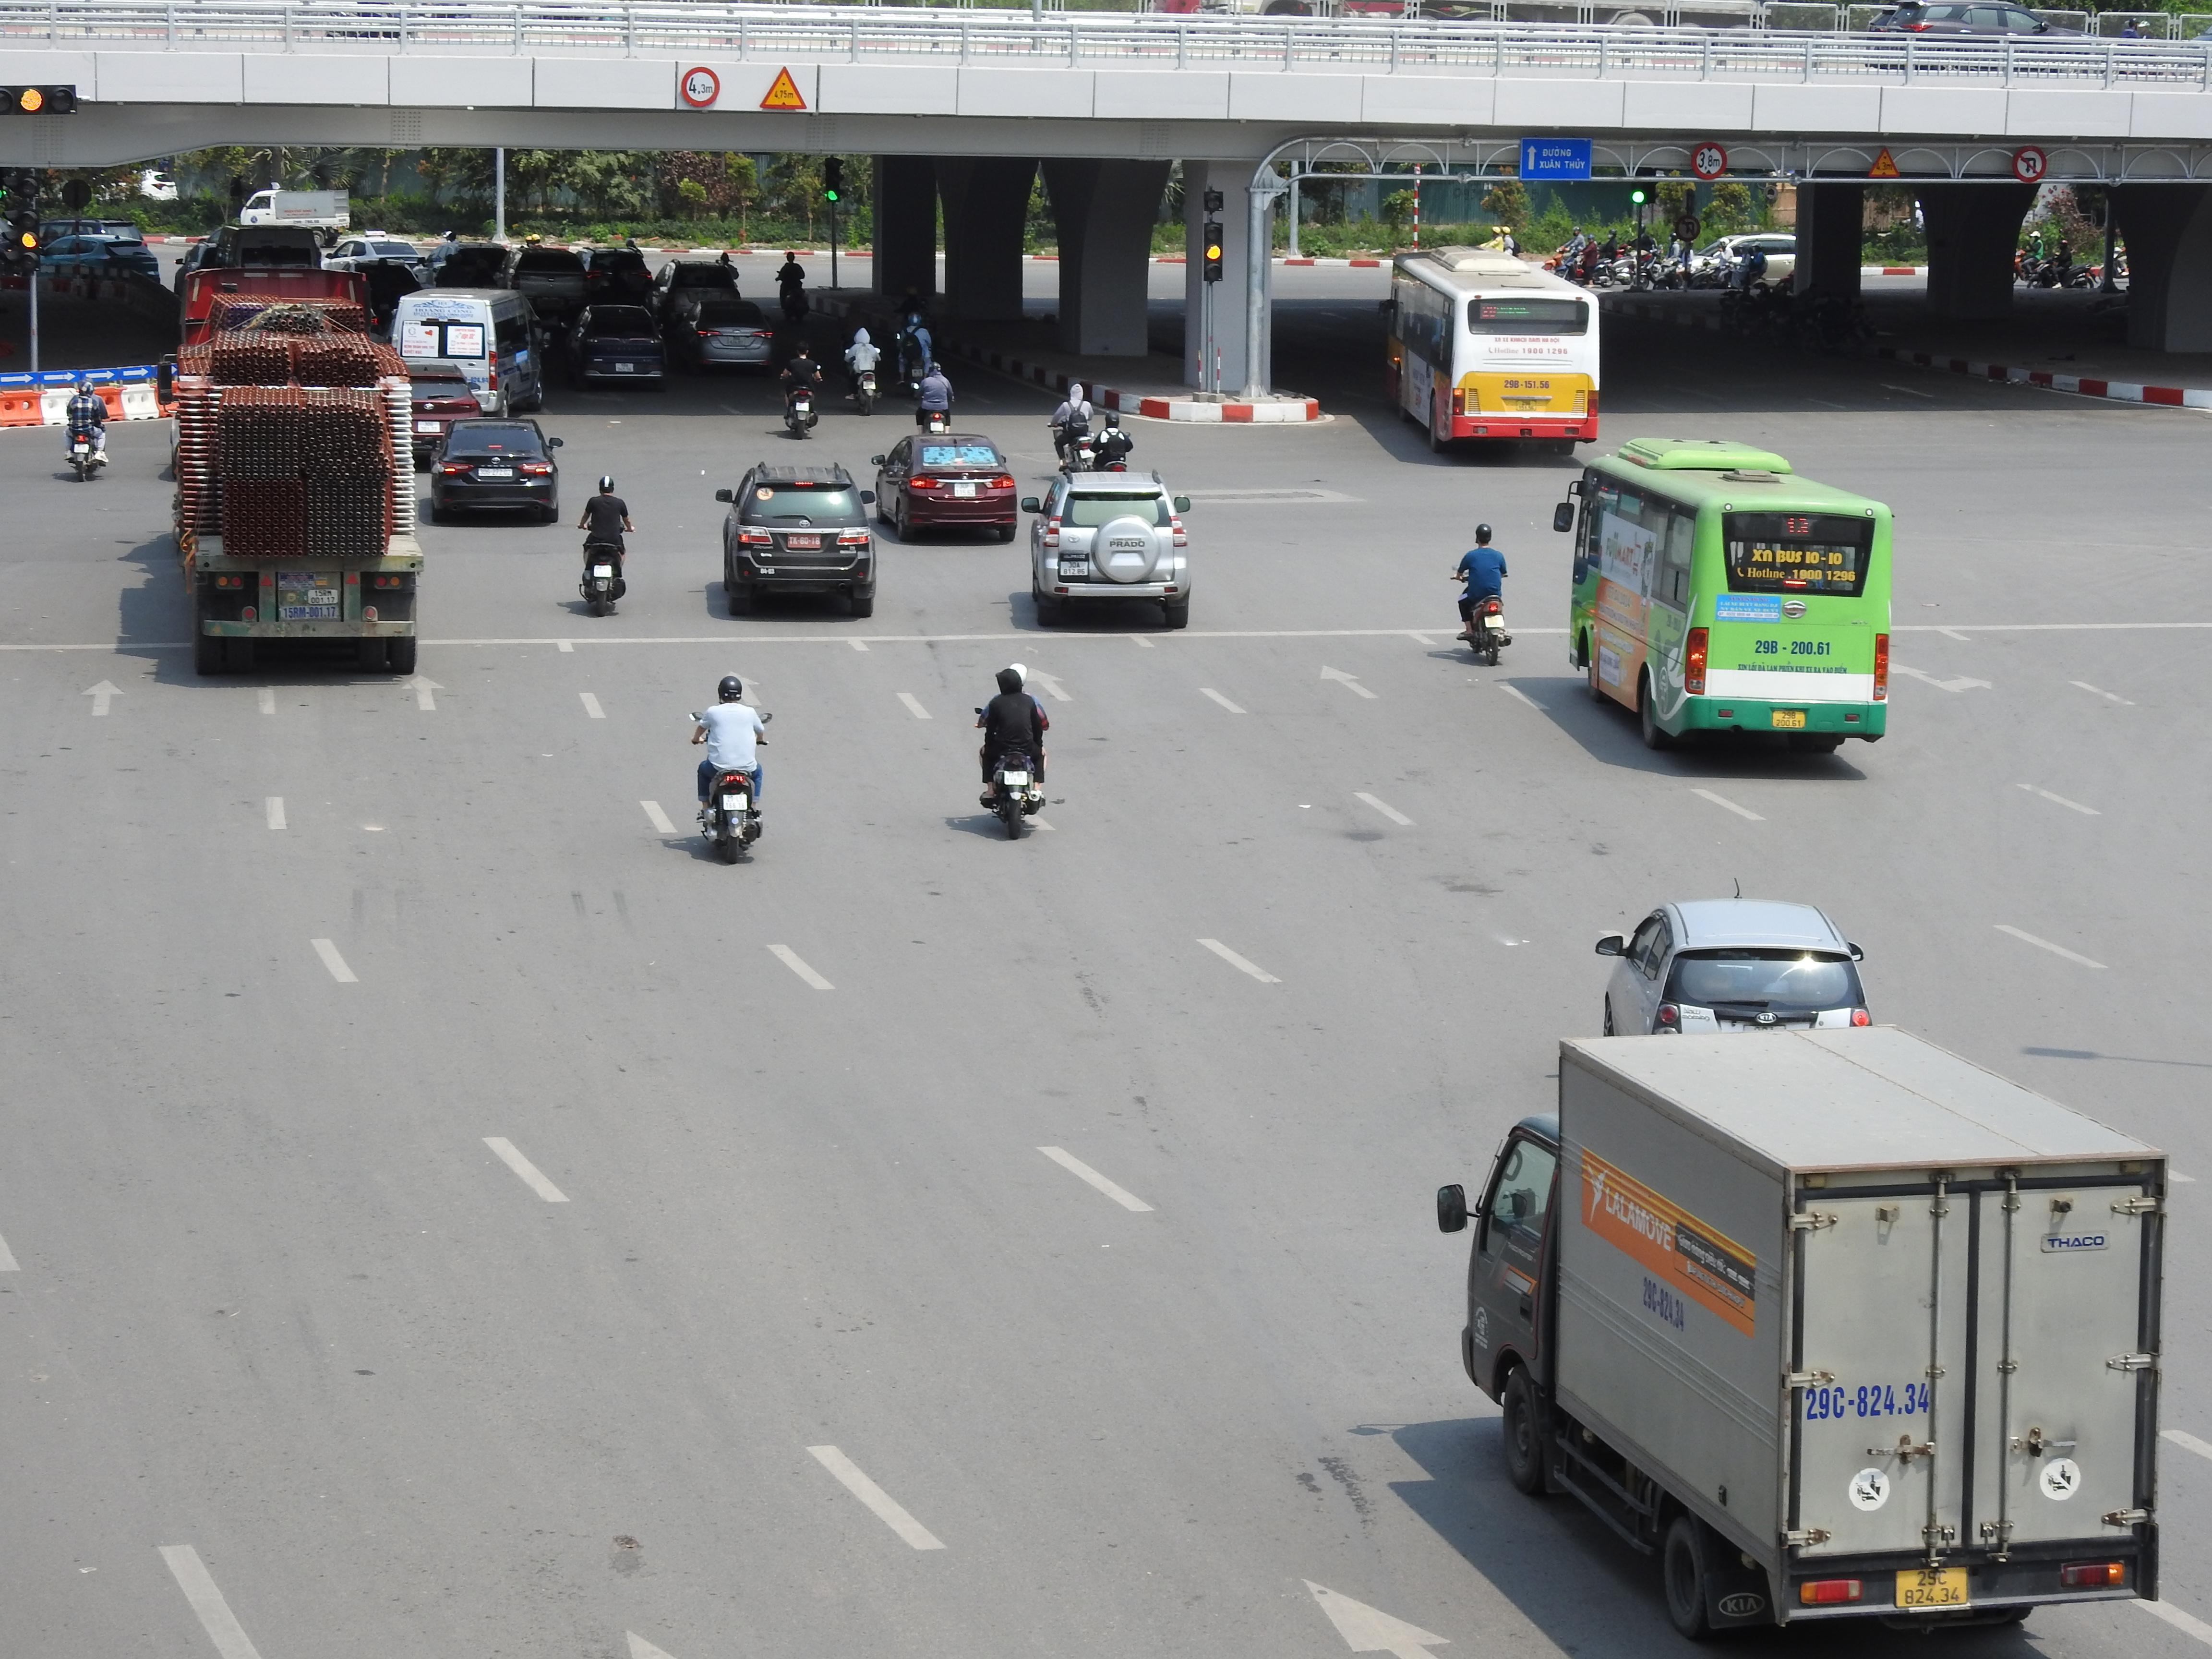BSD: (787, 535, 820, 549), (479, 469, 514, 476)
BSV: (1897, 1568, 1970, 1608), (1773, 711, 1804, 728), (308, 589, 338, 605), (723, 793, 749, 810), (1061, 561, 1089, 575), (1003, 770, 1028, 784), (1515, 397, 1538, 411), (954, 483, 975, 497), (592, 565, 611, 577)
bus: (1559, 436, 1895, 753), (1386, 247, 1602, 453)
car: (1597, 897, 1874, 1037), (1026, 469, 1193, 629), (714, 460, 878, 620), (869, 432, 1021, 545), (430, 416, 563, 525), (557, 301, 667, 390)
motorbike: (691, 673, 768, 864), (975, 664, 1049, 840), (1453, 523, 1512, 666), (577, 476, 632, 617), (63, 380, 108, 483), (1047, 378, 1096, 472), (780, 345, 822, 437), (843, 324, 883, 415), (911, 357, 956, 434)
truck: (1437, 1018, 2172, 1645), (167, 307, 423, 674)
